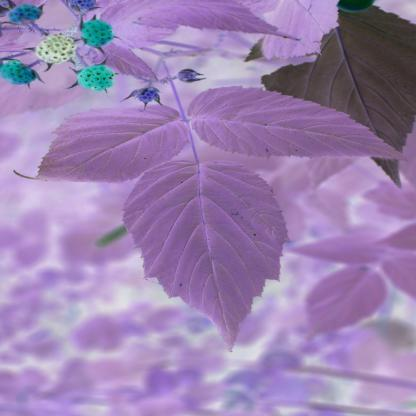Raspberry leaf: (126, 161, 292, 358), (184, 85, 408, 160), (6, 102, 192, 186)
